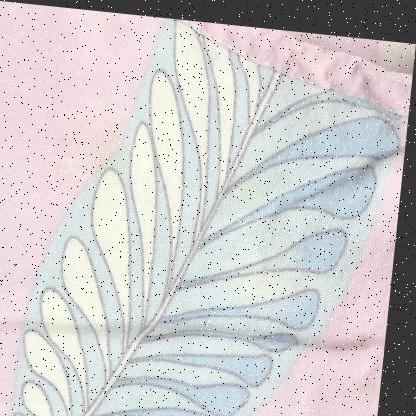spot: (91, 120, 136, 189), (240, 168, 271, 212)
